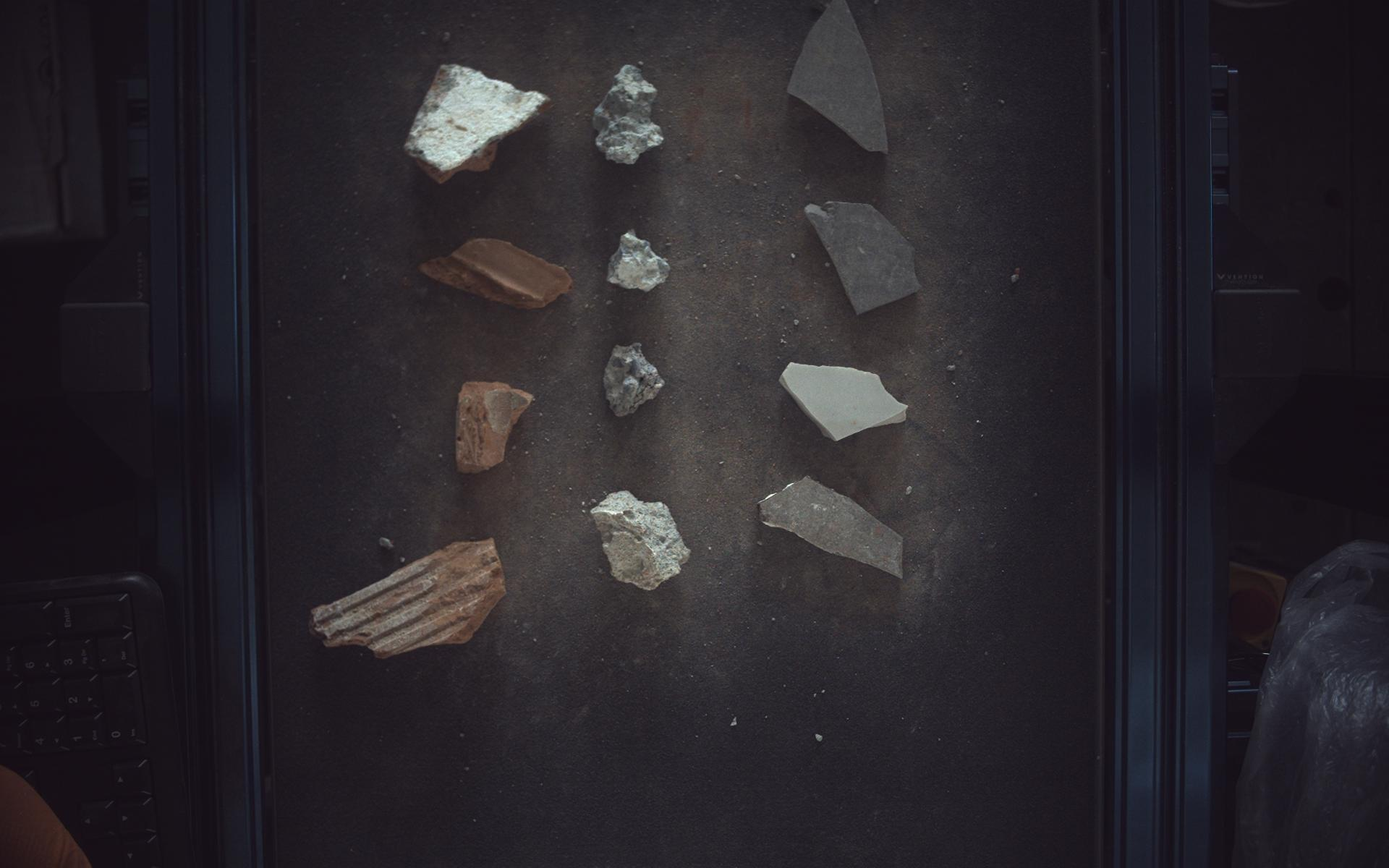brick: (310, 540, 506, 659), (404, 63, 551, 182), (419, 237, 573, 309), (456, 381, 534, 474)
concrete: (591, 491, 691, 591), (593, 63, 665, 163), (605, 342, 665, 417), (608, 229, 671, 291)
tile: (789, 1, 889, 151), (760, 477, 904, 578), (806, 200, 922, 314), (781, 363, 908, 441)
